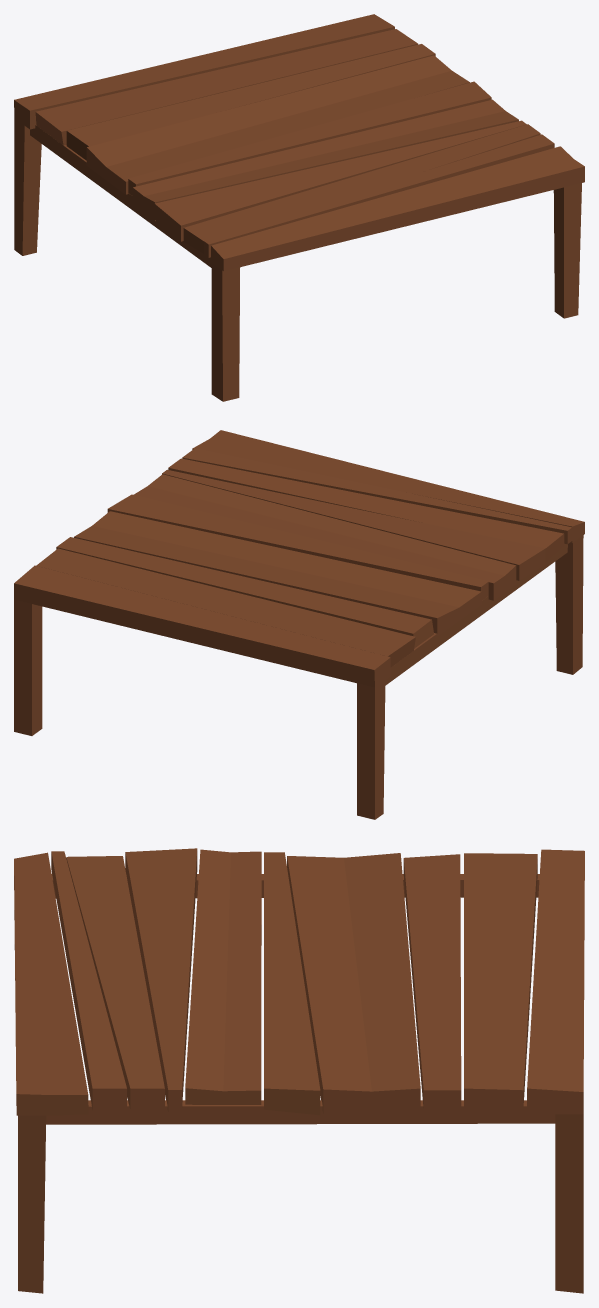
File: tableplank01.obj
3 renders of one model, top to bottom at view 1: azimuth 30°, elevation 25°; view 2: azimuth 150°, elevation 25°; view 3: azimuth 270°, elevation 25°, orthographic. The views are drawn at different scales.
Parts seen in each view (by area): view 1: Cube_Cube.001; view 2: Cube_Cube.001; view 3: Cube_Cube.001.
Boxes of the visible parts, box(x1,y1,x2,y2) form: Cube_Cube.001: box(14, 14, 584, 401); Cube_Cube.001: box(14, 430, 584, 819); Cube_Cube.001: box(14, 848, 584, 1293).
Size of the model in its own units: 2.03 by 0.8001 by 2.02.
